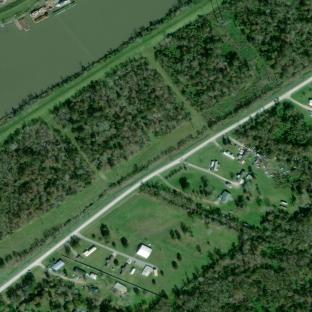Floresta: (140, 182, 312, 312), (52, 57, 189, 169), (154, 14, 276, 126), (0, 119, 93, 239), (234, 101, 312, 196), (223, 0, 312, 78), (0, 0, 0, 0)
